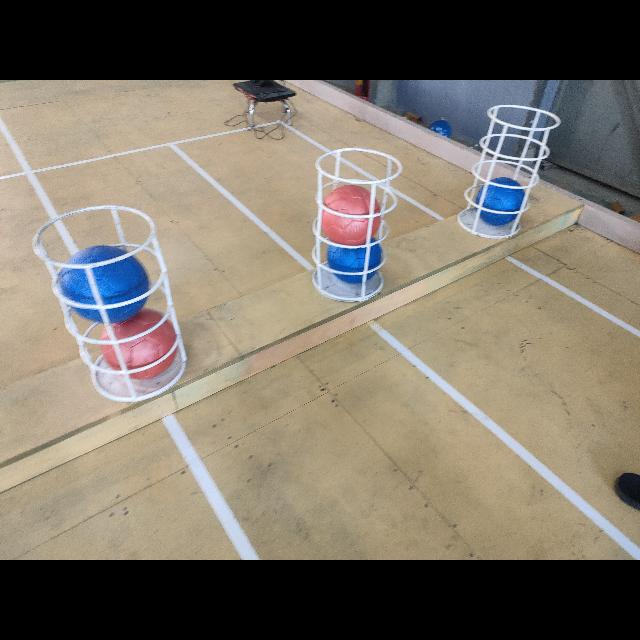B: (61, 246, 149, 320), (474, 176, 528, 227), (326, 243, 380, 284)
R: (99, 318, 178, 382), (320, 185, 382, 242)
